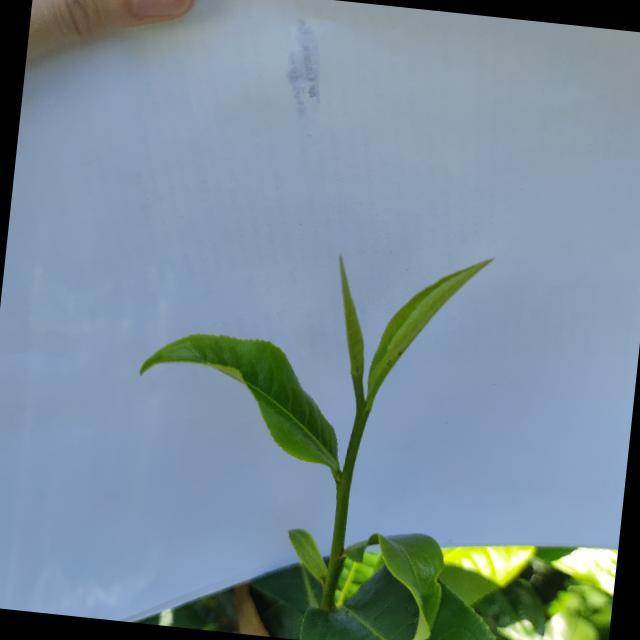Stem: (356, 412, 366, 427)
